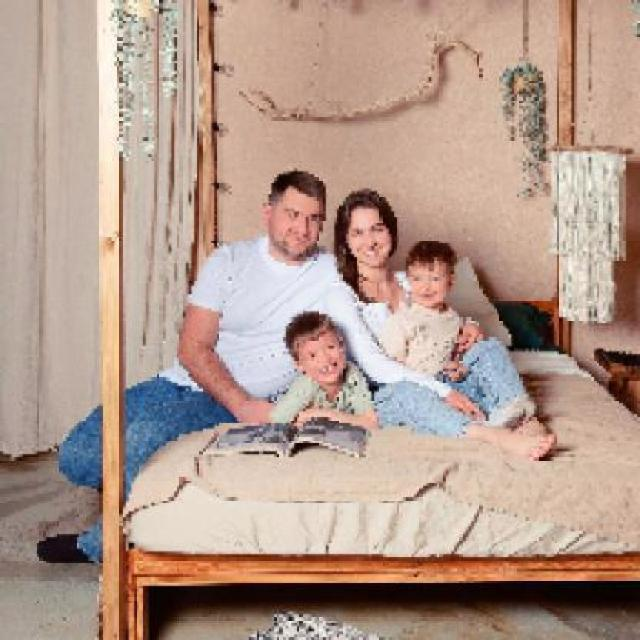child: (382, 240, 484, 377), (268, 310, 381, 430)
